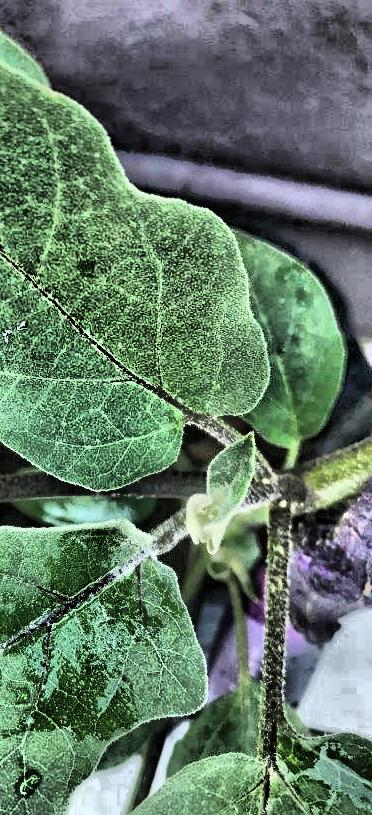HEALTHY: (122, 0, 372, 601)
